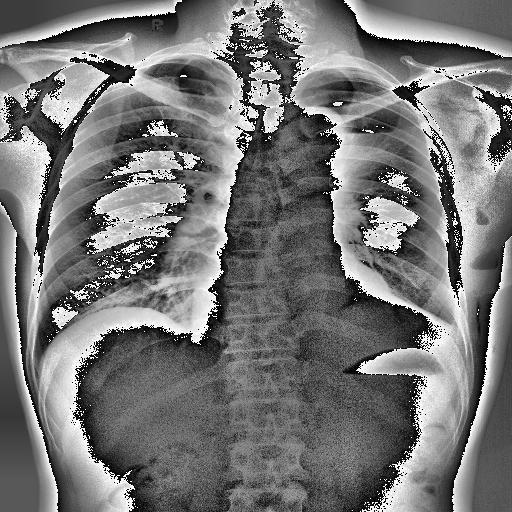0- Aortic enlargement: (282, 104, 344, 156), (292, 108, 344, 156)
10- Pleural effusion: (410, 295, 466, 361)
11- Pleural thickening: (410, 295, 466, 361)
12- Pneumothorax: (300, 70, 426, 136)
3- Cardiomegaly: (192, 266, 395, 338)
9- Other lesion: (374, 290, 462, 352), (470, 202, 502, 336), (410, 295, 466, 361), (475, 298, 481, 342)
